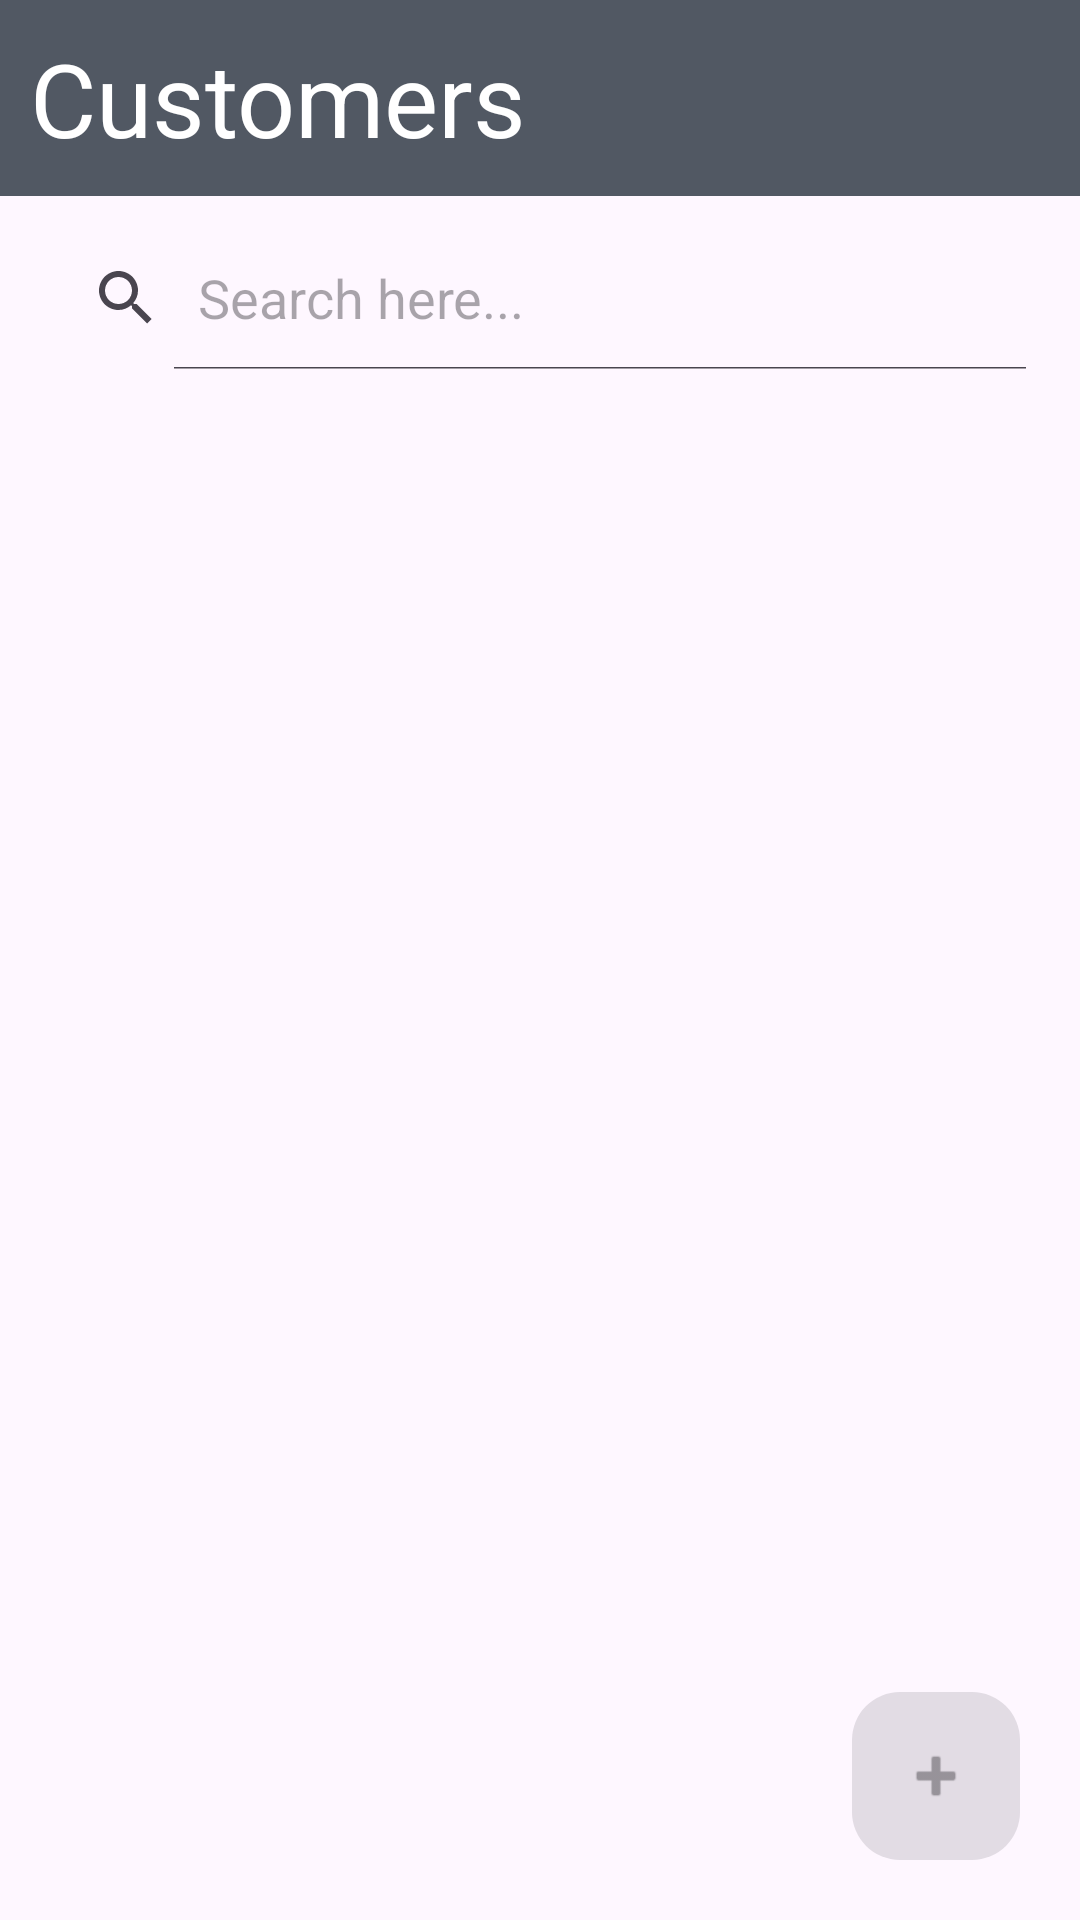

Screen size 1080 x 1920. Icon name, then its center in pixels as point (x, y):
Se Phgainei Sthn Othoni Pou Dhmiourgeis Neo Pelath: point (936, 1776)
